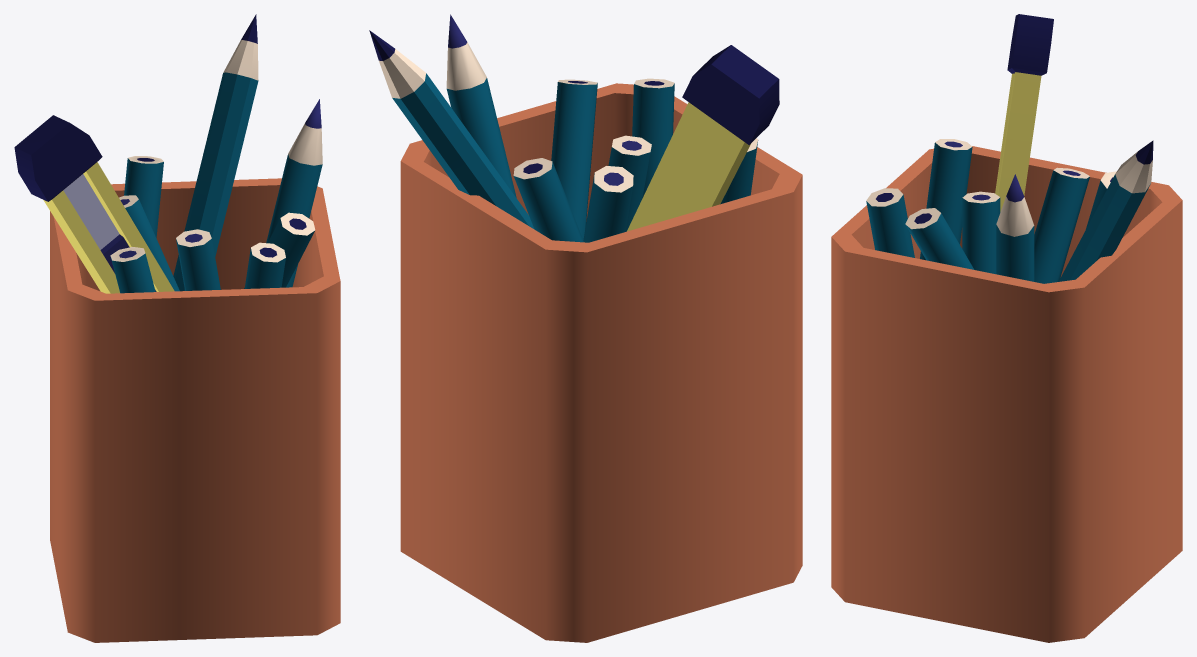
The picture shows the model from 3 angles, left to right: view 1: azimuth 30°, elevation 25°; view 2: azimuth 150°, elevation 25°; view 3: azimuth 270°, elevation 25°; orthographic projection. The views are drawn at different scales.
Parts seen in each view (by area): view 1: Joint_0_Object_1, Joint_0_Object_2, Joint_0_Object_0; view 2: Joint_0_Object_1, Joint_0_Object_2, Joint_0_Object_0; view 3: Joint_0_Object_1, Joint_0_Object_2, Joint_0_Object_0.
Part boxes in pixels (<box>): Joint_0_Object_1: <box>50,178,340,642</box>; Joint_0_Object_2: <box>110,14,322,293</box>; Joint_0_Object_0: <box>14,115,174,293</box>; Joint_0_Object_1: <box>400,83,802,642</box>; Joint_0_Object_2: <box>369,14,758,242</box>; Joint_0_Object_0: <box>627,45,779,231</box>; Joint_0_Object_1: <box>831,146,1182,642</box>; Joint_0_Object_2: <box>866,139,1153,283</box>; Joint_0_Object_0: <box>995,14,1053,211</box>.
Size of the model in its own units: 207 by 311 by 200.
